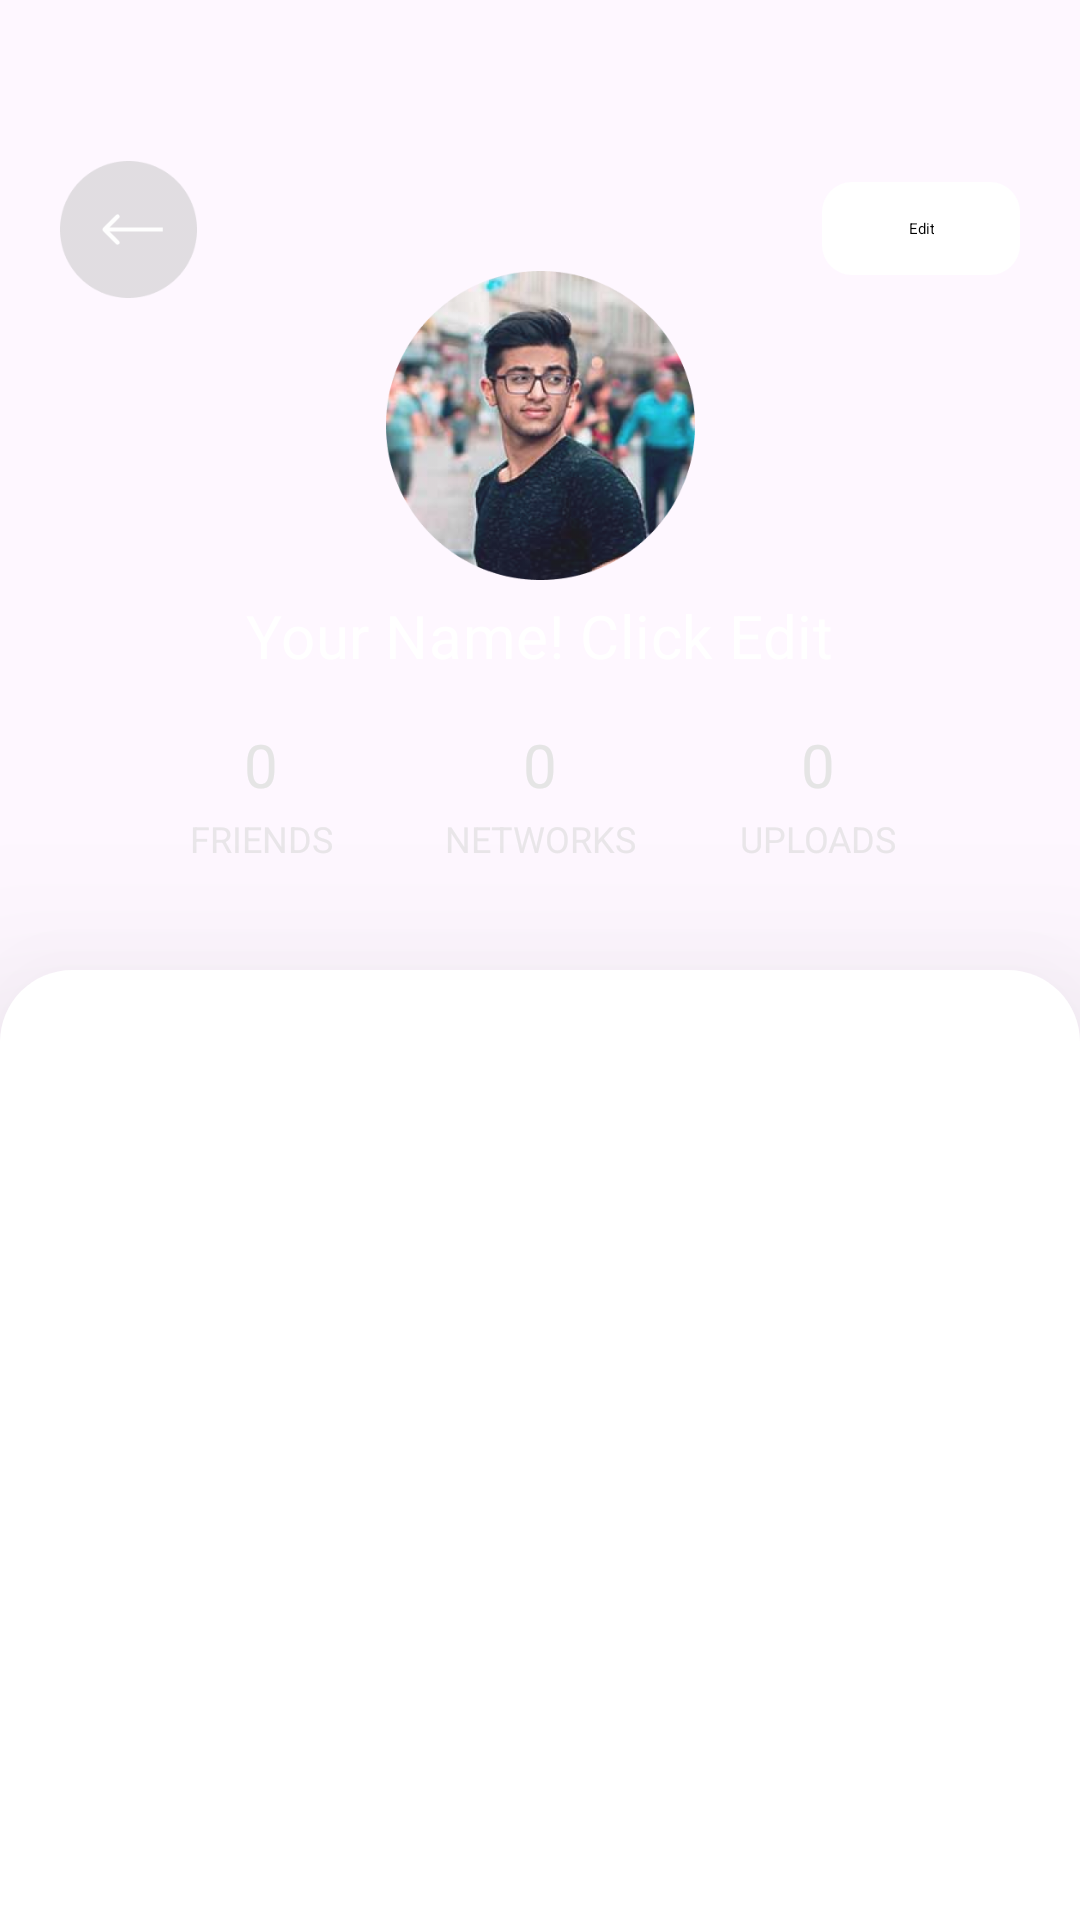

Screen size 1080 x 1920. Icon name, then its box in pixels as (x1, y1, x2, y2):
back: (60, 161, 197, 298)
profile avi: (386, 271, 695, 580)
